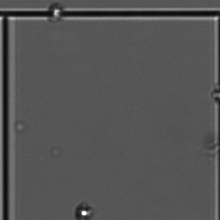Living Cell: (73, 198, 97, 220), (47, 3, 67, 23)
